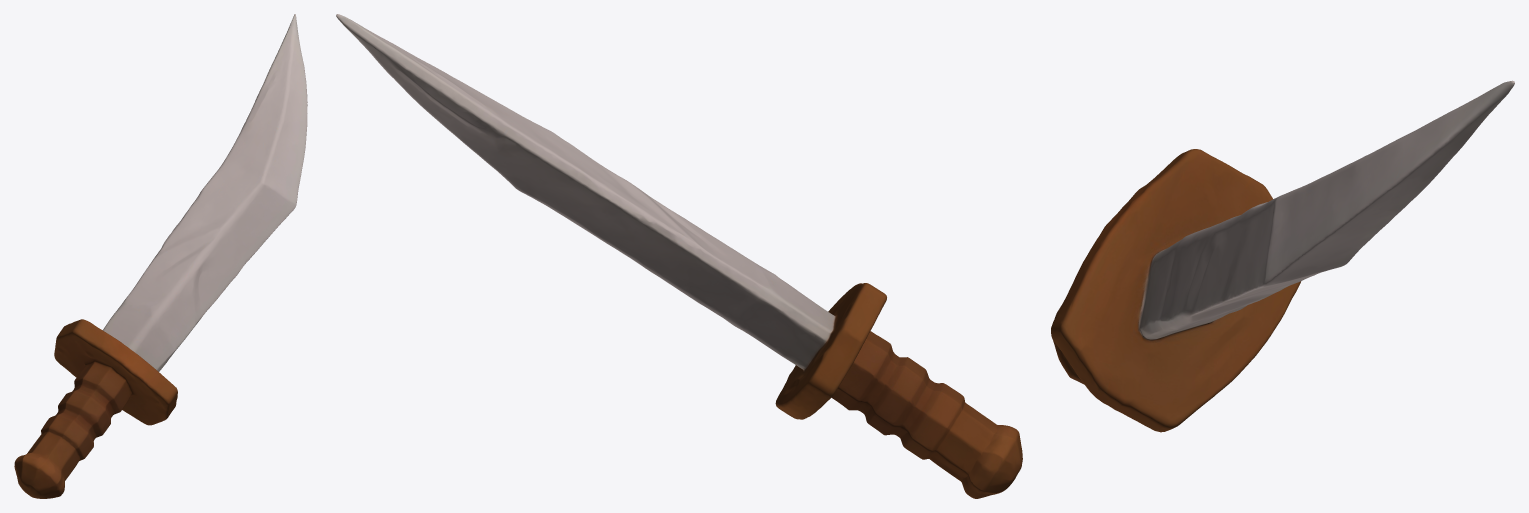
Rendered from dagger.glb.
The picture shows the model from 3 angles, left to right: view 1: azimuth 30°, elevation 25°; view 2: azimuth 150°, elevation 25°; view 3: azimuth 270°, elevation 25°; orthographic projection. The views are drawn at different scales.
Parts seen in each view (by area): view 1: tripo_node_f6bc707d-846e-4937-89e2-b9499dbae5a9; view 2: tripo_node_f6bc707d-846e-4937-89e2-b9499dbae5a9; view 3: tripo_node_f6bc707d-846e-4937-89e2-b9499dbae5a9.
Boxes of the visible parts, bbox=[...] form: tripo_node_f6bc707d-846e-4937-89e2-b9499dbae5a9: bbox=[14, 14, 307, 498]; tripo_node_f6bc707d-846e-4937-89e2-b9499dbae5a9: bbox=[336, 14, 1022, 498]; tripo_node_f6bc707d-846e-4937-89e2-b9499dbae5a9: bbox=[1051, 80, 1514, 432].
Size of the model in its own units: 1 by 0.8231 by 0.5325.
Materials: 1 (1 with a texture image).
